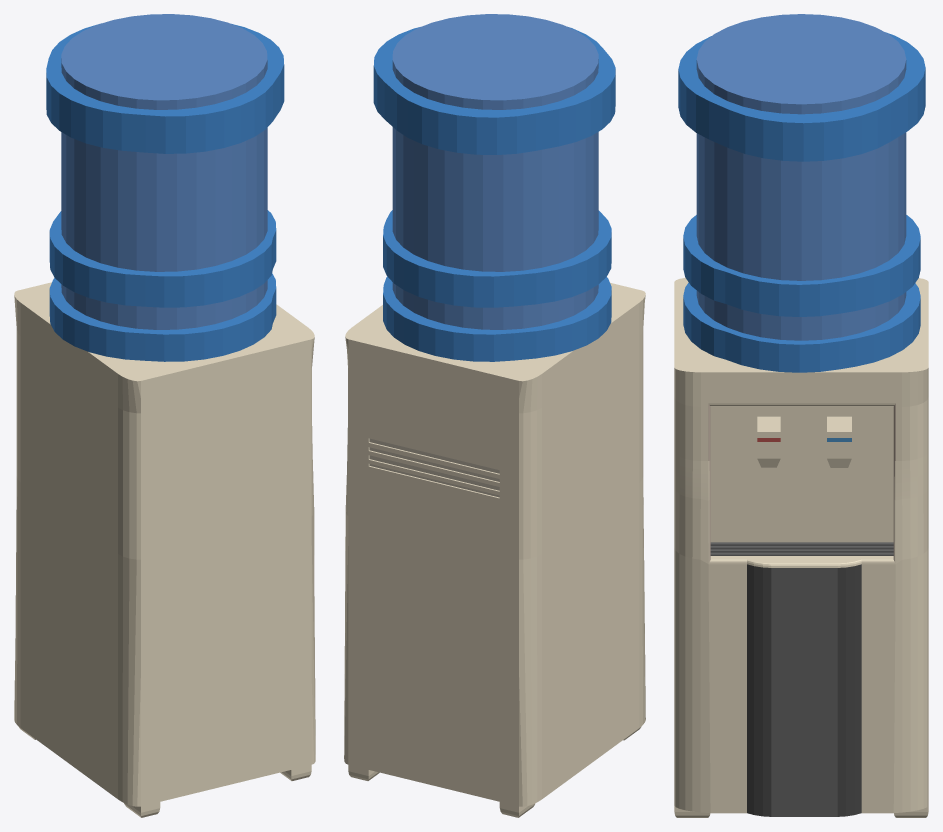
File: Kuller.fbx
3 views of the same model, side by side, from view 1: azimuth 30°, elevation 25°; view 2: azimuth 150°, elevation 25°; view 3: azimuth 270°, elevation 25° (orthographic). The views are drawn at different scales.
Visible parts, largest first — view 1: Cylinder; view 2: Cylinder; view 3: Cylinder.
Part boxes in pixels (<box>): Cylinder: <box>14,14,315,817</box>; Cylinder: <box>344,14,645,817</box>; Cylinder: <box>674,14,928,817</box>.
Bounding box in the file's own units: 225 × 700 × 225.
